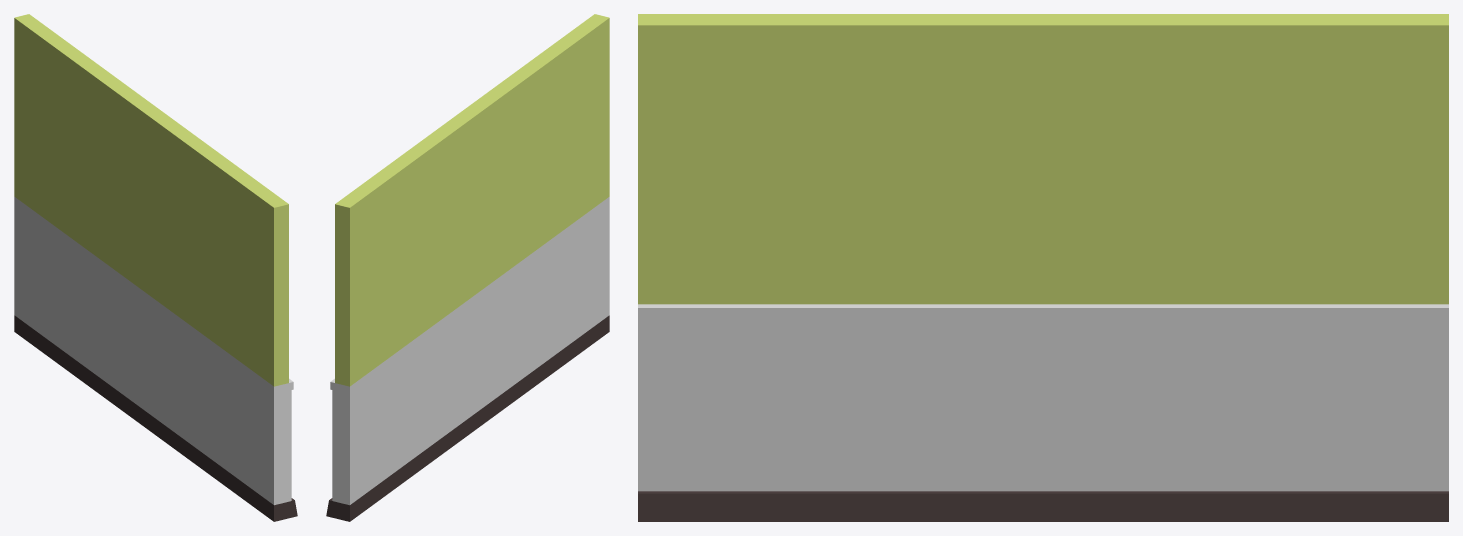
The model's file is SM_Wall_Basic2.fbx.
3 views of the same model, side by side, from view 1: azimuth 30°, elevation 25°; view 2: azimuth 150°, elevation 25°; view 3: azimuth 270°, elevation 25° (orthographic). The views are drawn at different scales.
Parts seen in each view (by area): view 1: Cube.001; view 2: Cube.001; view 3: Cube.001.
Part boxes in pixels (x1,y1,x2,y2): Cube.001: (14,14,297,521); Cube.001: (326,14,609,521); Cube.001: (638,14,1448,521).
Size of the model in its own units: 31.57 by 400 by 600.
